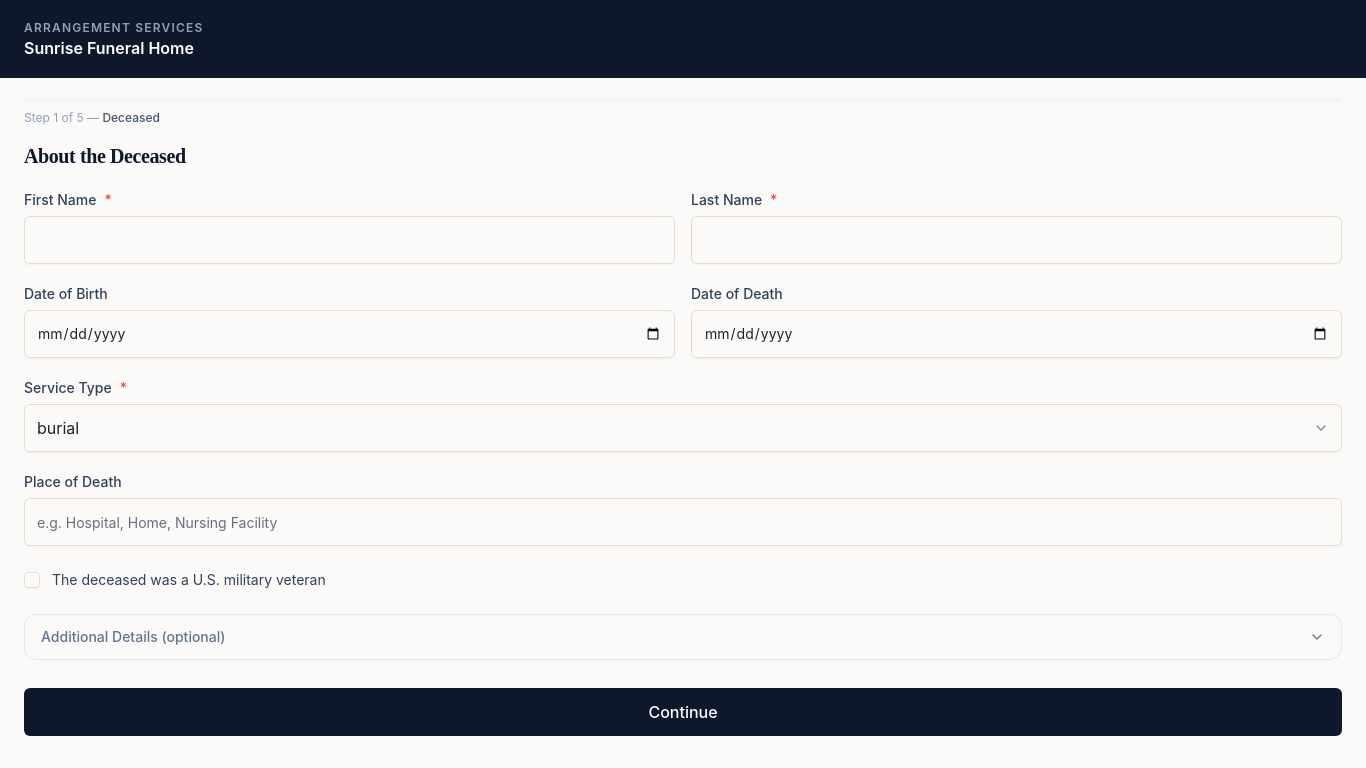
Scenario: IntakeForm › shows validation error when Continue clicked with empty first name
What coordinates should you click on to do the following:
click the button "Continue"
I would click on:
 (683, 712)
Its box is [24, 688, 1342, 736].
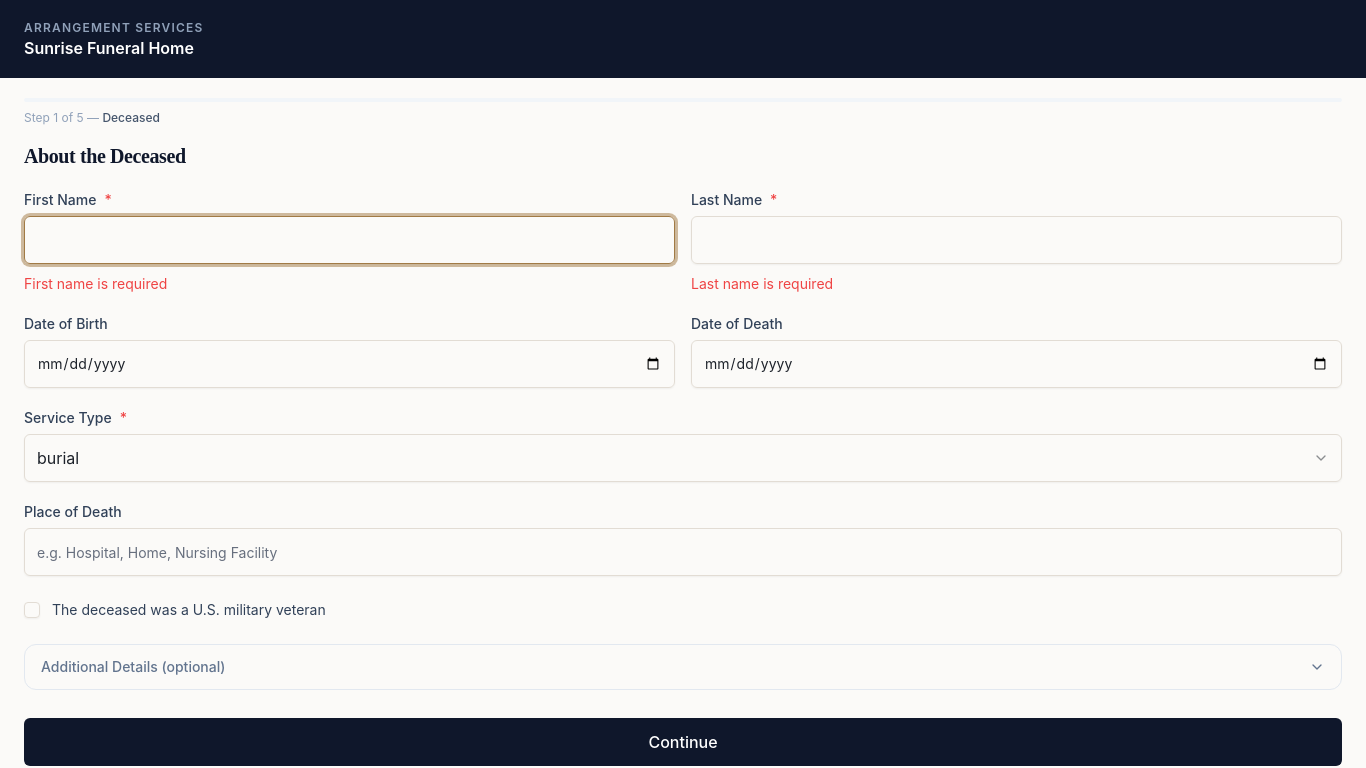
Check: the text "First name is required" is shown, box [24, 275, 167, 292]
